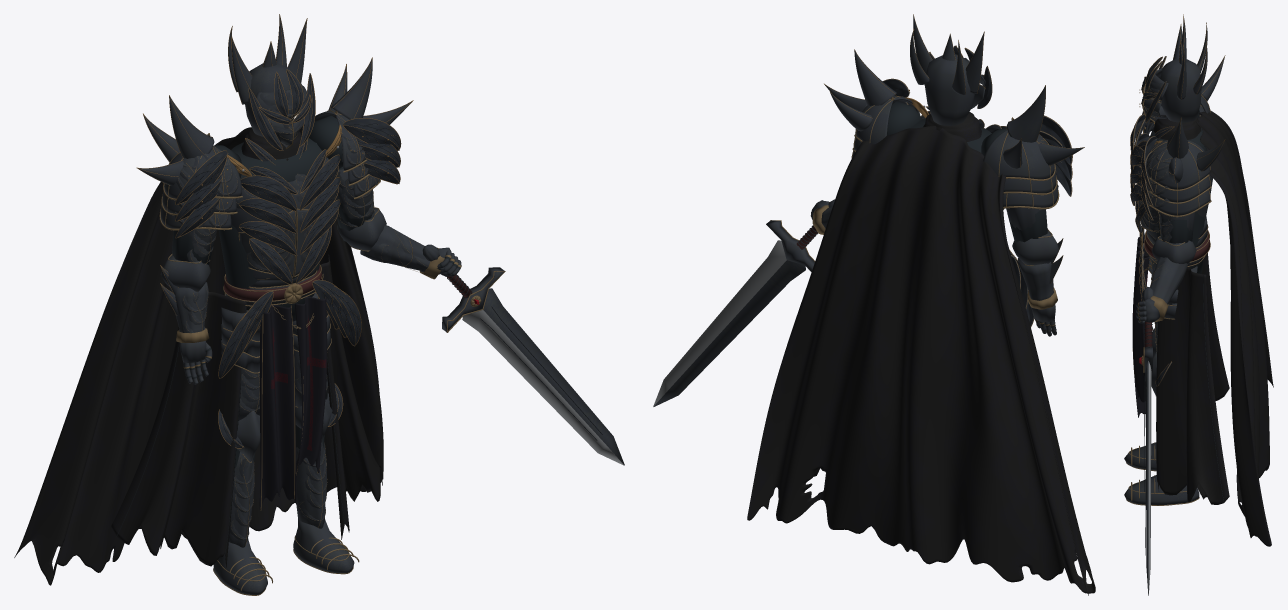
Rendered from Gothic_Black_Knight.glb.
The picture shows the model from 3 angles, left to right: view 1: azimuth 30°, elevation 25°; view 2: azimuth 150°, elevation 25°; view 3: azimuth 270°, elevation 25°; orthographic projection. The views are drawn at different scales.
Parts seen in each view (by area): view 1: Cape | tailored drape and sparse torn openings, Cloth | folded torn hip hanging, Split heraldic tabard, Greatsword | diamond section blade, Preserved body chasing and bindings, Cloth | folded torn hip hanging.001, Split heraldic tabard.001, Padded arming torso, Sabatons | shaped plated boot.001, Sabatons | shaped plated boot, Greave | calf and tibial crest.001, Pauldron | high swept blade (+26 smaller); view 2: Cape | tailored drape and sparse torn openings, Greatsword | diamond section blade, Helmet | enclosed rear skull, Left pauldron lame 0, Preserved body chasing and bindings, Pauldron | high swept blade, Elbow couter, Right pauldron lame 0, Pauldron | high swept blade.001, Vambrace, Greatsword | sculpted crossguard, Padded shoulder attachment.001 (+7 smaller); view 3: Cape | tailored drape and sparse torn openings, Cloth | folded torn hip hanging.001, Preserved body chasing and bindings, Helmet | enclosed rear skull, Right pauldron lame 0, Split heraldic tabard.001, Cloth | folded torn hip hanging, Greatsword | diamond section blade, Vambrace.001, Sabatons | shaped plated boot.001, Elbow couter.001, Right pauldron lame 2 (+22 smaller).
Boxes of the visible parts, x1,y1,x2,y2 form: Cape | tailored drape and sparse torn openings: (14, 126, 383, 585); Cloth | folded torn hip hanging: (111, 291, 246, 568); Split heraldic tabard: (259, 304, 296, 509); Greatsword | diamond section blade: (462, 288, 624, 465); Preserved body chasing and bindings: (159, 94, 505, 595); Cloth | folded torn hip hanging.001: (320, 254, 380, 539); Split heraldic tabard.001: (294, 296, 327, 479); Padded arming torso: (218, 138, 326, 321); Sabatons | shaped plated boot.001: (293, 517, 354, 573); Sabatons | shaped plated boot: (213, 538, 267, 594); Greave | calf and tibial crest.001: (296, 442, 326, 528); Pauldron | high swept blade: (169, 96, 214, 158); Cape | tailored drape and sparse torn openings: (747, 126, 1095, 595); Greatsword | diamond section blade: (653, 240, 805, 406); Helmet | enclosed rear skull: (924, 54, 974, 125); Left pauldron lame 0: (983, 119, 1054, 179); Preserved body chasing and bindings: (770, 84, 1059, 283); Pauldron | high swept blade: (1006, 86, 1045, 142); Elbow couter: (1012, 230, 1059, 265); Right pauldron lame 0: (855, 96, 920, 144); Pauldron | high swept blade.001: (854, 50, 896, 105); Vambrace: (1018, 258, 1053, 300); Greatsword | sculpted crossguard: (766, 220, 814, 271); Padded shoulder attachment.001: (887, 101, 922, 135); Cape | tailored drape and sparse torn openings: (1196, 111, 1273, 546); Cloth | folded torn hip hanging.001: (1156, 267, 1229, 504); Preserved body chasing and bindings: (1126, 86, 1211, 505); Helmet | enclosed rear skull: (1160, 58, 1201, 122); Right pauldron lame 0: (1146, 140, 1210, 189); Split heraldic tabard.001: (1132, 250, 1149, 402); Cloth | folded torn hip hanging: (1201, 253, 1229, 400); Greatsword | diamond section blade: (1145, 360, 1151, 595); Vambrace.001: (1150, 257, 1187, 304); Sabatons | shaped plated boot.001: (1124, 475, 1199, 505); Elbow couter.001: (1151, 237, 1196, 264); Right pauldron lame 2: (1146, 190, 1210, 215).
Bounding box in the file's own units: 2.19 × 2.09 × 0.624.
11 materials, 8 textured.
